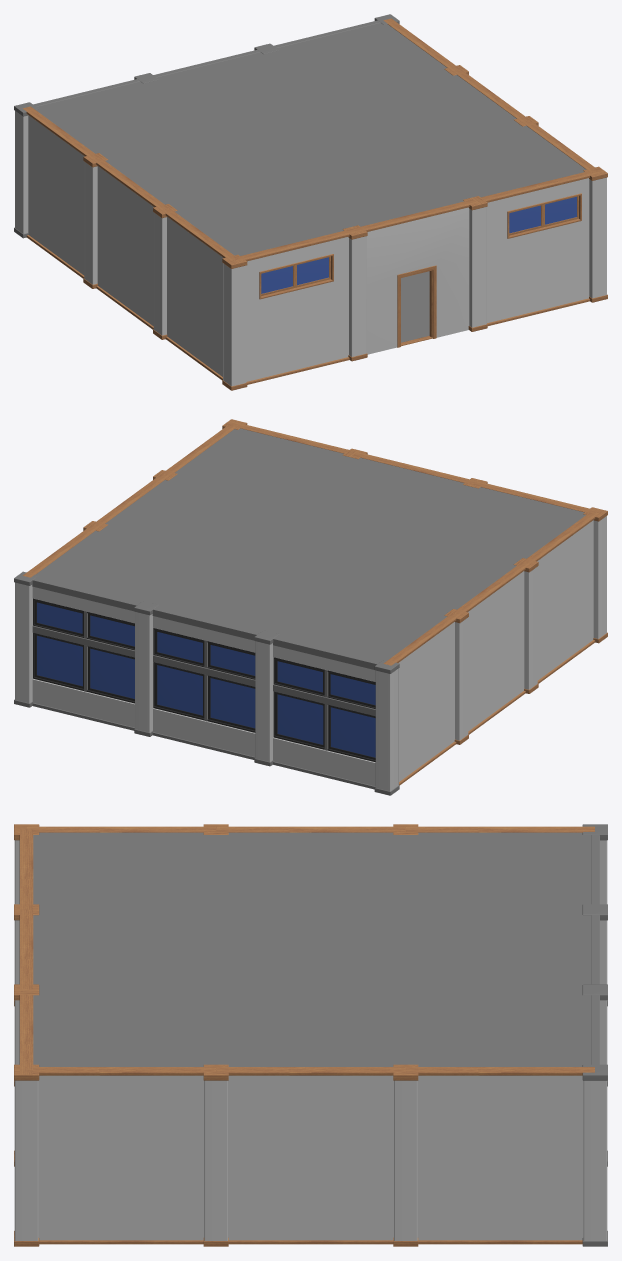
Rendered from SM_activityroom_02.fbx.
3 renders of one model, top to bottom at view 1: azimuth 30°, elevation 25°; view 2: azimuth 150°, elevation 25°; view 3: azimuth 270°, elevation 25°, orthographic. The views are drawn at different scales.
Visible parts, largest first — view 1: Activityroom_02; view 2: Activityroom_02; view 3: Activityroom_02.
Boxes of the visible parts, x1,y1,x2,y2 form: Activityroom_02: (14,14,607,390); Activityroom_02: (14,419,607,795); Activityroom_02: (14,824,607,1246).
Size of the model in its own units: 493 by 158 by 493.
